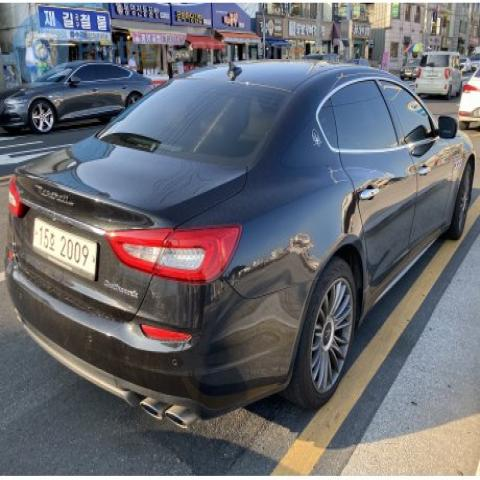LP: (27, 213, 108, 287)
